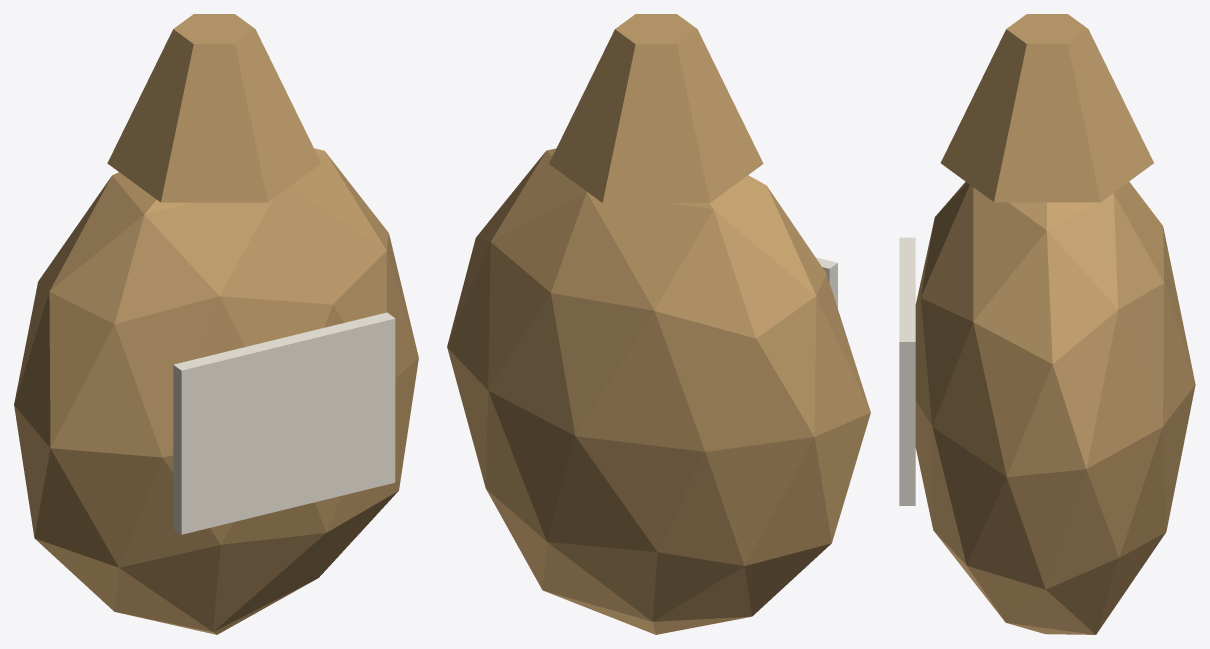
The model's file is feed_sack.glb.
The picture shows the model from 3 angles, left to right: view 1: azimuth 30°, elevation 25°; view 2: azimuth 150°, elevation 25°; view 3: azimuth 270°, elevation 25°; orthographic projection.
Parts seen in each view (by area): view 1: feed_sack; view 2: feed_sack; view 3: feed_sack.
Boxes of the visible parts, bbox=[...] form: feed_sack: bbox=[14, 14, 418, 634]; feed_sack: bbox=[447, 14, 870, 634]; feed_sack: bbox=[899, 14, 1195, 634].
Bounding box in the file's own units: 0.5301 × 0.8111 × 0.3603.
